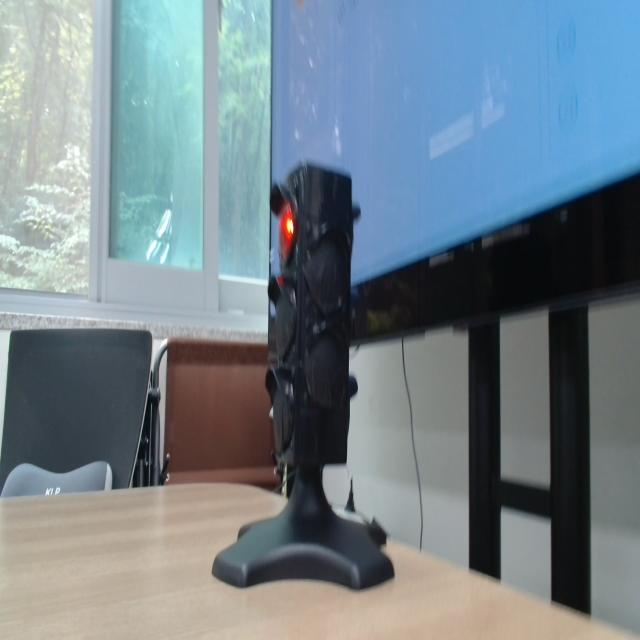red_light: (278, 201, 296, 262)
